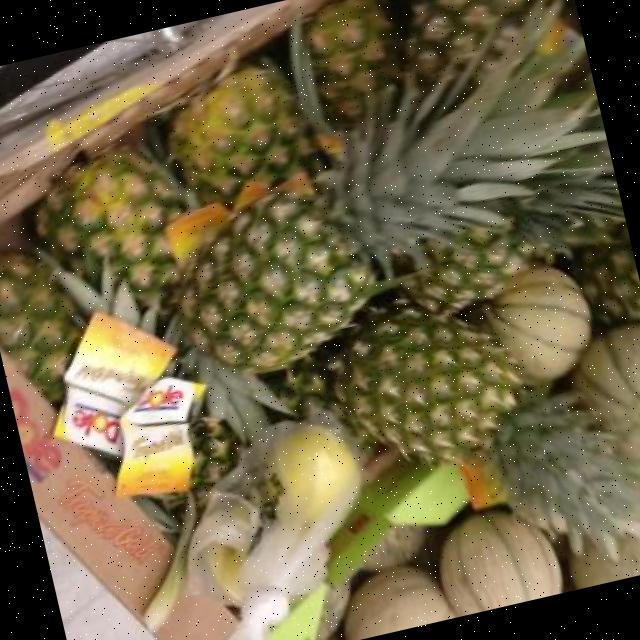pineapple: (174, 6, 622, 369), (328, 304, 640, 550), (403, 141, 625, 312), (30, 150, 189, 296), (170, 67, 309, 202), (292, 0, 399, 128), (0, 253, 82, 399), (406, 0, 532, 79)
